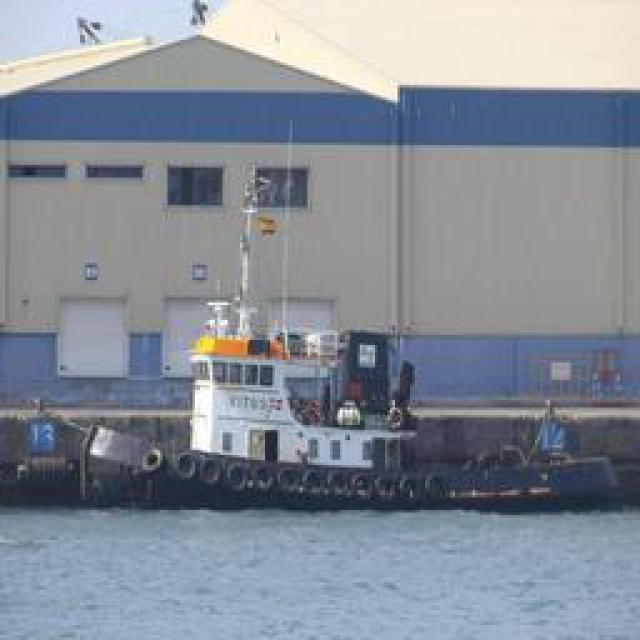Ship: (157, 302, 637, 512)
